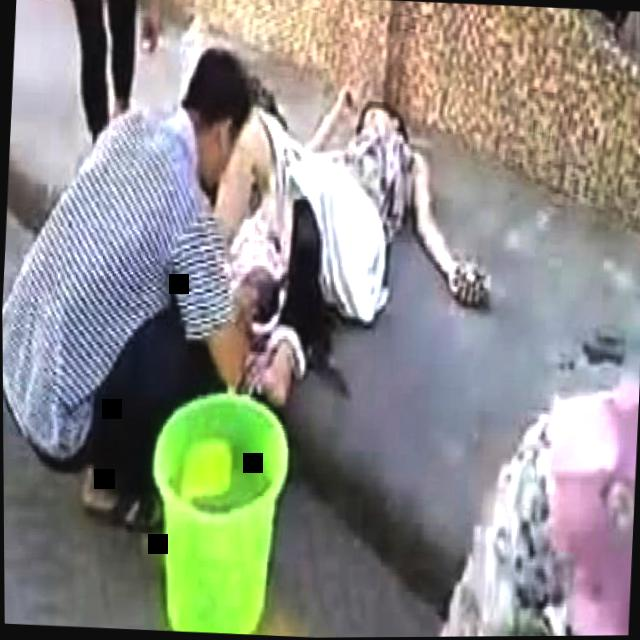Fall-Detected: (175, 28, 519, 451)
